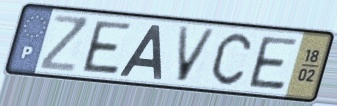A: (117, 22, 164, 82)
C: (209, 31, 253, 87)
E: (81, 19, 135, 77), (247, 34, 301, 92)
V: (175, 24, 220, 84)
Z: (38, 13, 91, 75)
